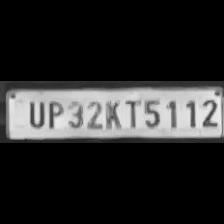1: (163, 97, 181, 129), (180, 96, 196, 128)
2: (197, 97, 219, 129), (84, 98, 104, 130)
3: (64, 97, 84, 128)
5: (139, 96, 163, 128)
K: (102, 98, 122, 130)
P: (45, 97, 65, 128)
T: (122, 97, 140, 129)
U: (24, 97, 46, 128)
